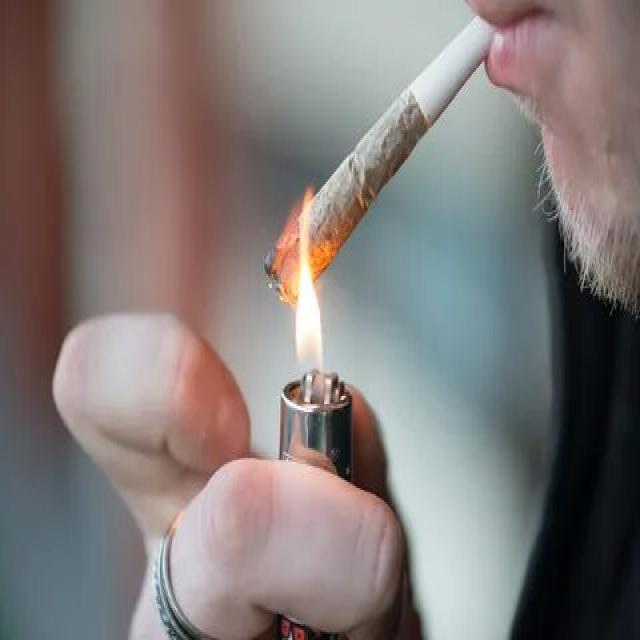smoke: (259, 14, 501, 314)
